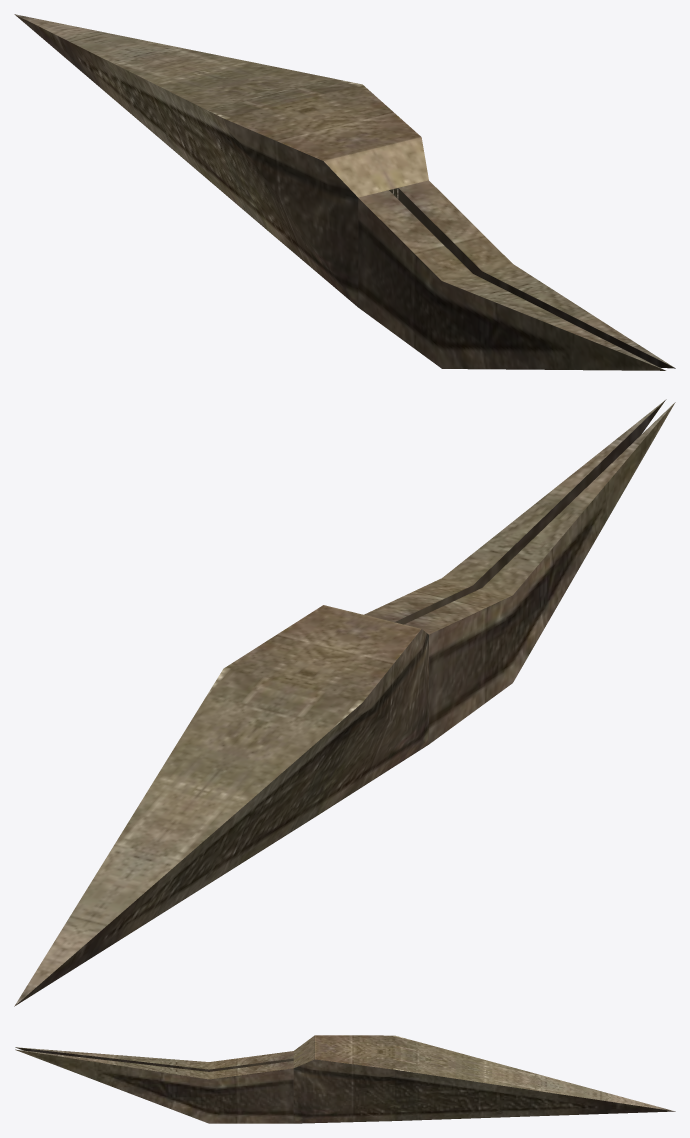
3 renders of one model, top to bottom at view 1: azimuth 30°, elevation 25°; view 2: azimuth 150°, elevation 25°; view 3: azimuth 270°, elevation 25°, orthographic. The views are drawn at different scales.
Visible parts, largest first — view 1: model_Object43; view 2: model_Object43; view 3: model_Object43.
Part boxes in pixels (x1,y1,x2,y2): model_Object43: (14, 14, 675, 370); model_Object43: (14, 399, 675, 1006); model_Object43: (15, 1035, 675, 1123).
Bounding box in the file's own units: 1.08 × 0.9931 × 8.8.
1 material, 1 textured.
